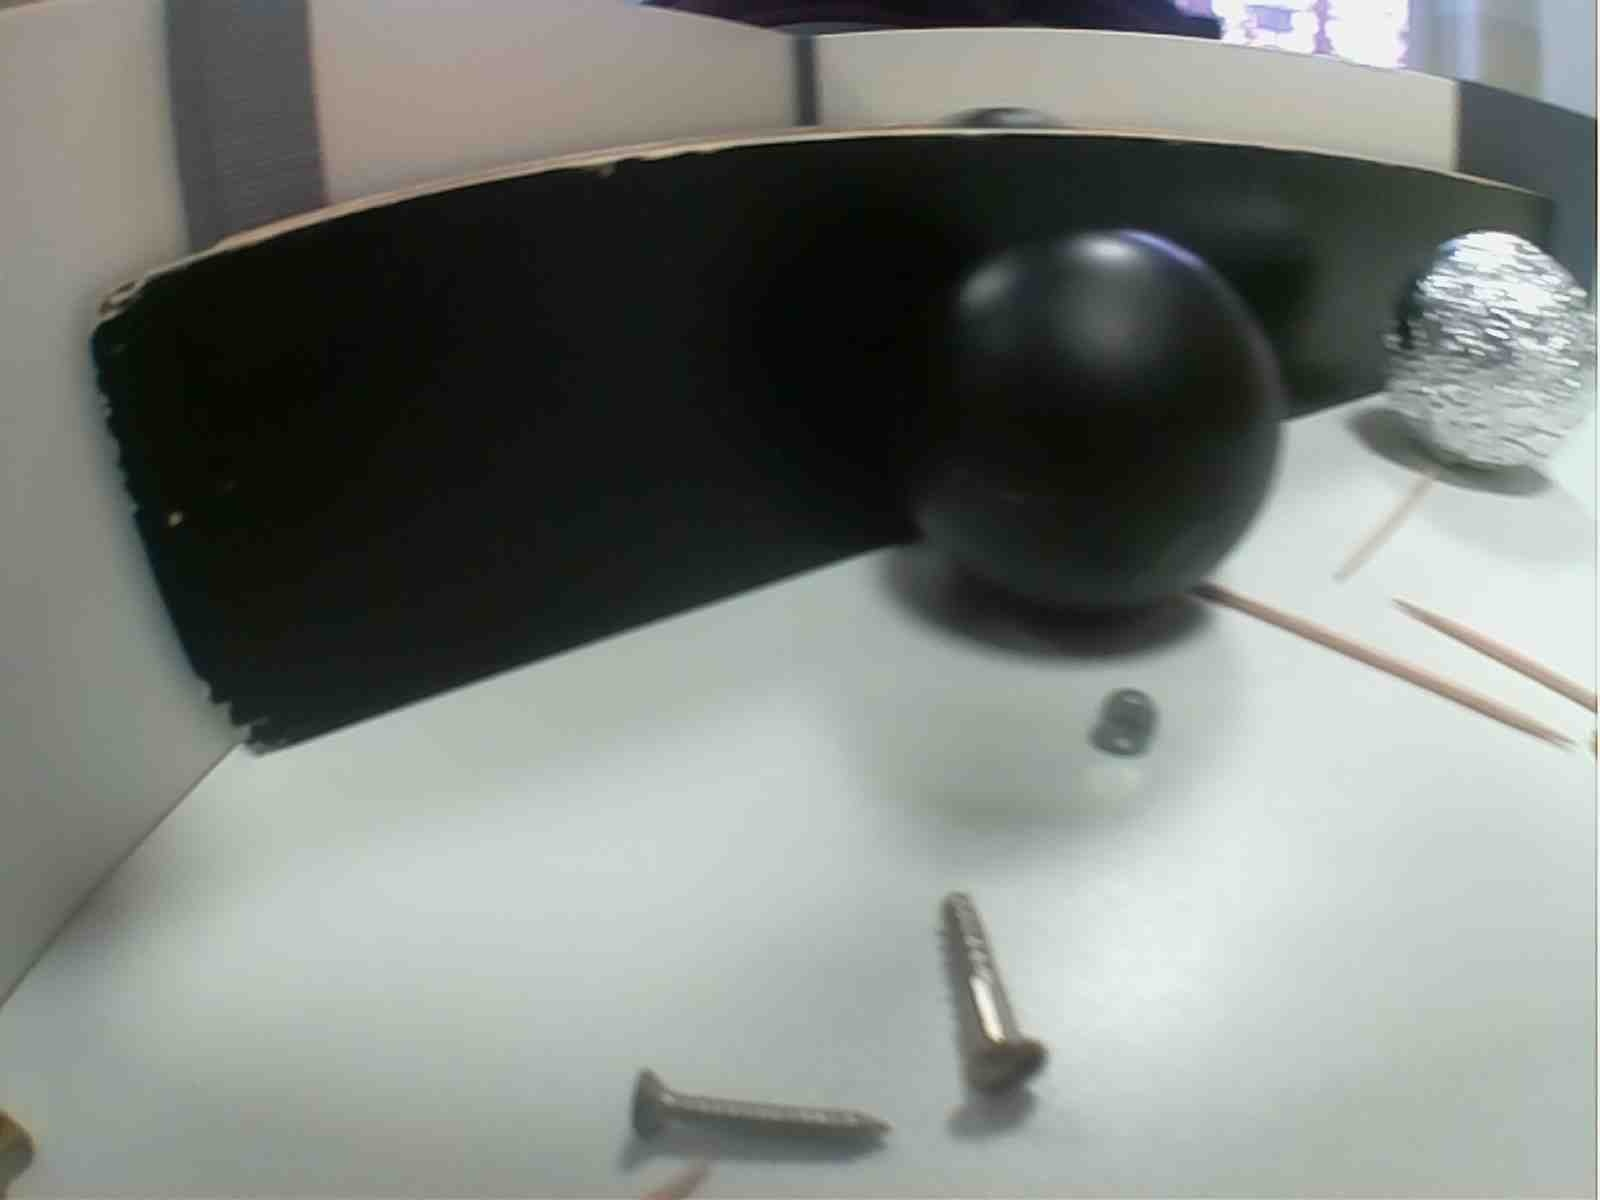bianca: (1378, 221, 1600, 476)
nera: (908, 212, 1283, 628)
